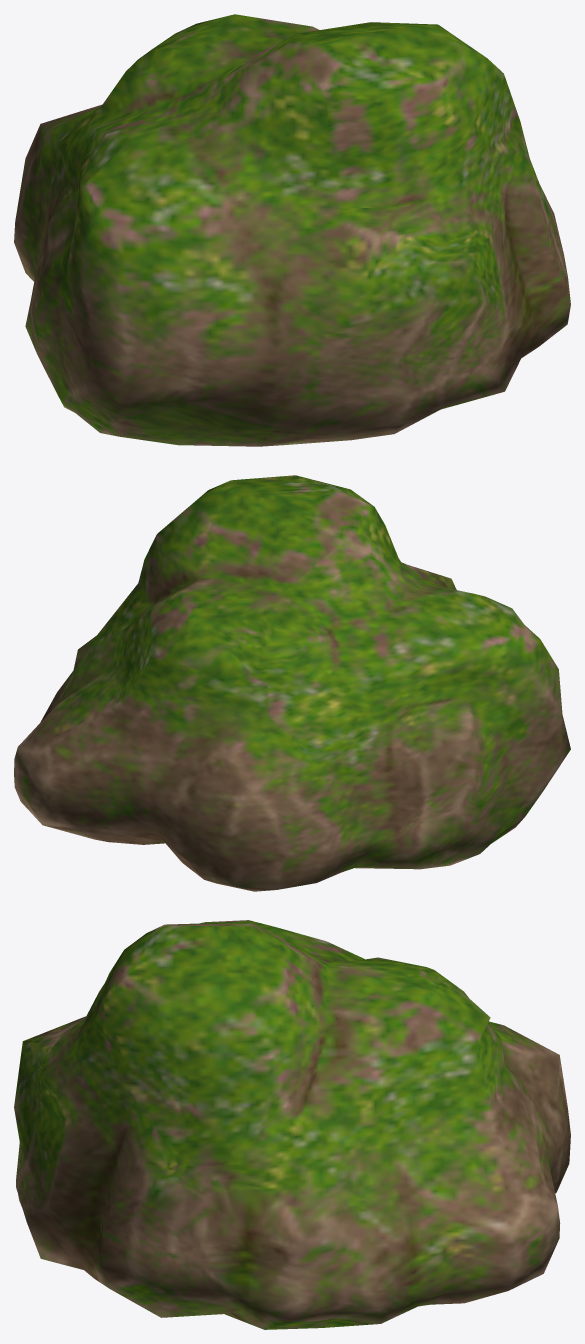
Rendered from sb_obj_nature006_Stone04a.fbx.
The picture shows the model from 3 angles, top to bottom: view 1: azimuth 30°, elevation 25°; view 2: azimuth 150°, elevation 25°; view 3: azimuth 270°, elevation 25°; orthographic projection. The views are drawn at different scales.
Parts seen in each view (by area): view 1: sb_obj_nature006_Stone04a; view 2: sb_obj_nature006_Stone04a; view 3: sb_obj_nature006_Stone04a.
Boxes of the visible parts, box(x1,y1,x2,y2) form: sb_obj_nature006_Stone04a: box(14, 14, 570, 446); sb_obj_nature006_Stone04a: box(14, 475, 570, 891); sb_obj_nature006_Stone04a: box(14, 920, 570, 1329).
Bounding box in the file's own units: 1.03 × 0.6464 × 0.997.
